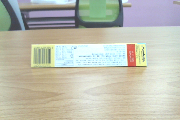Chocolate: (21, 40, 154, 76)
